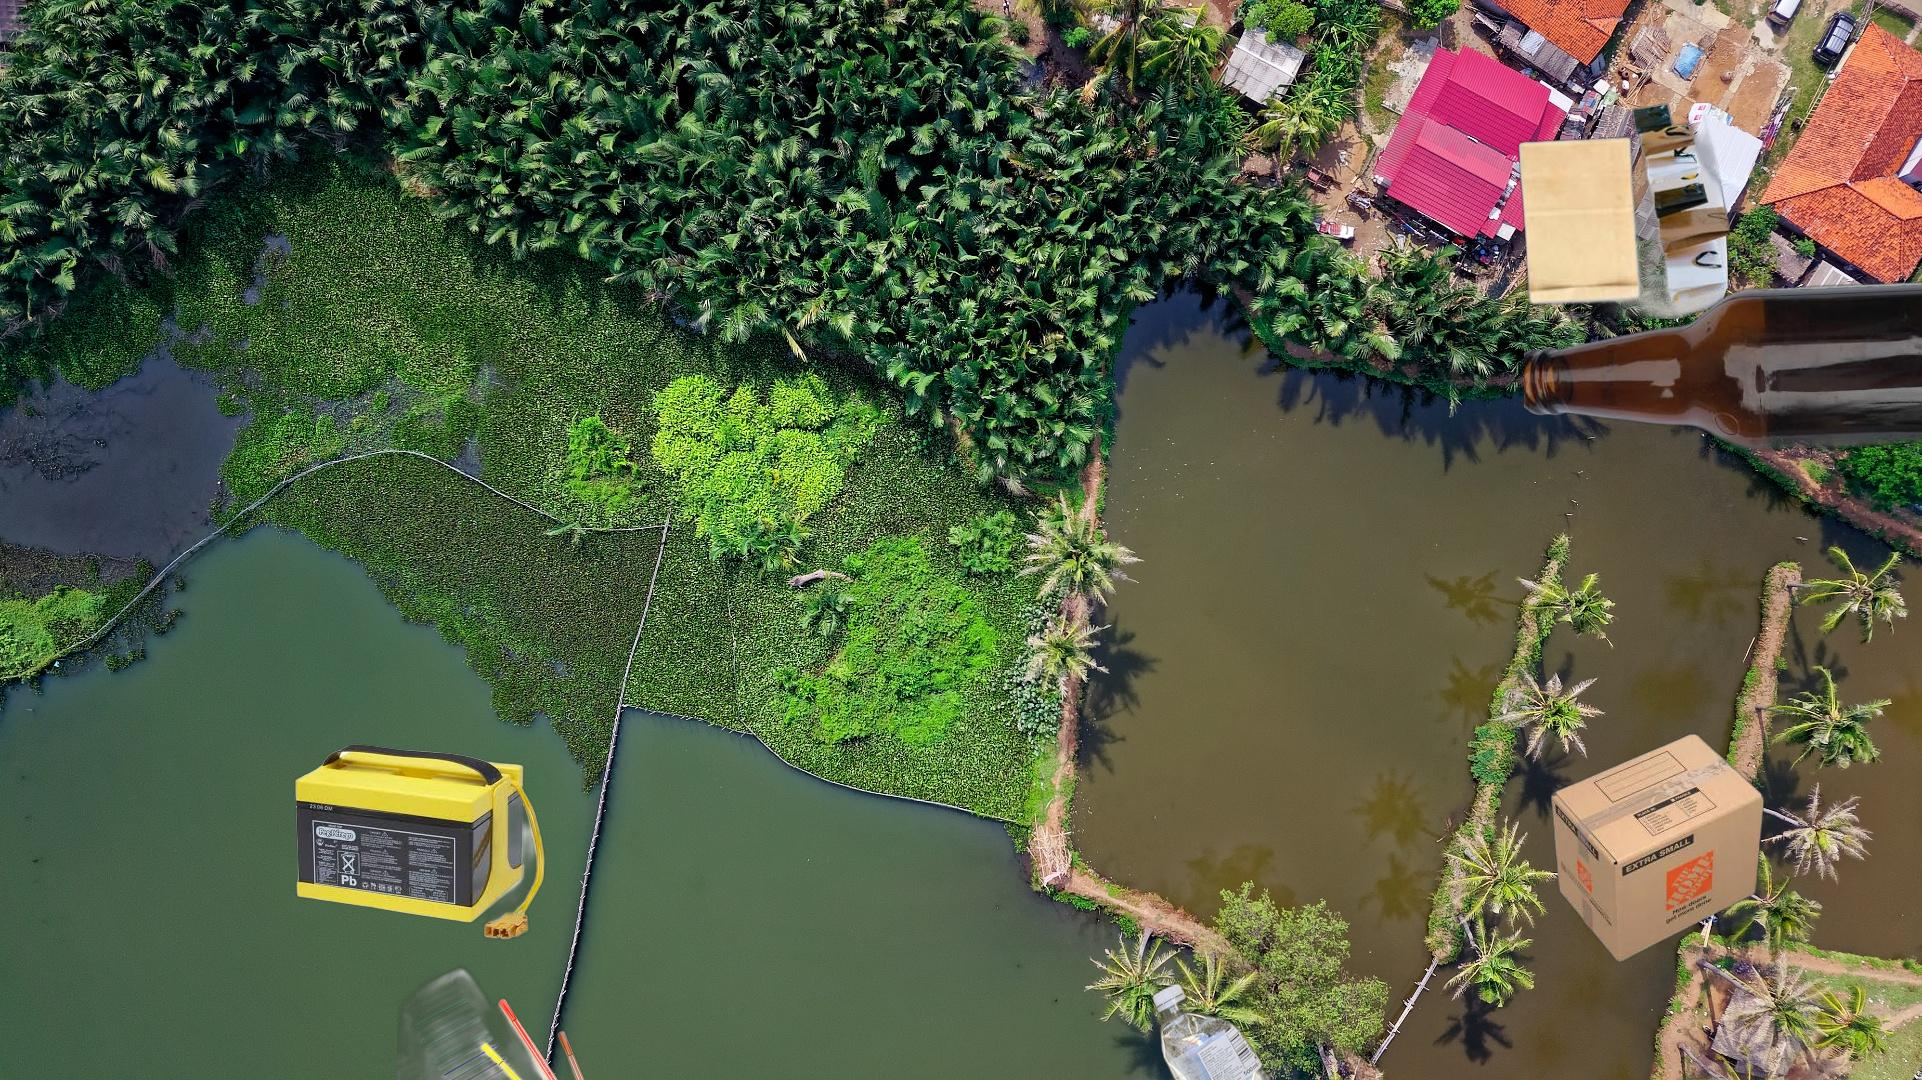battery: (293, 742, 546, 941)
glass: (1524, 276, 1922, 455)
paper-bag: (1515, 73, 1740, 319)
penholder: (397, 940, 597, 1080)
plastic-bottles: (1147, 977, 1292, 1080)
trashbox-cardboard: (1548, 730, 1767, 965)
